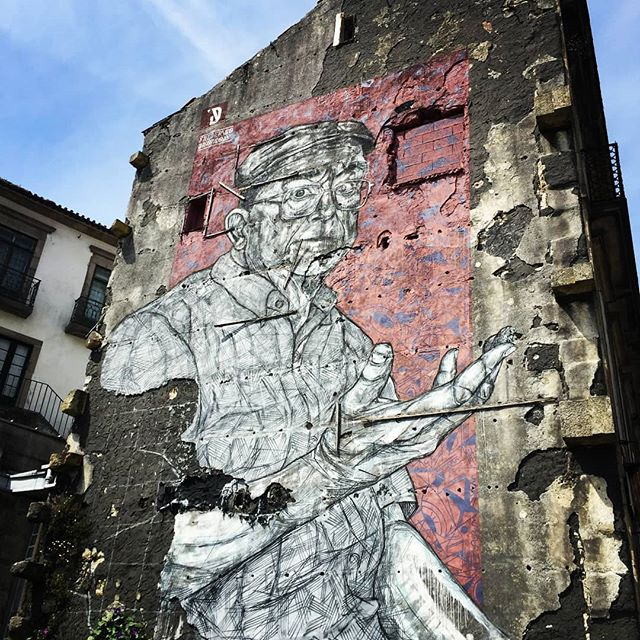building: (8, 1, 639, 630)
graffiti: (69, 65, 540, 622)
sky: (5, 1, 283, 199)
